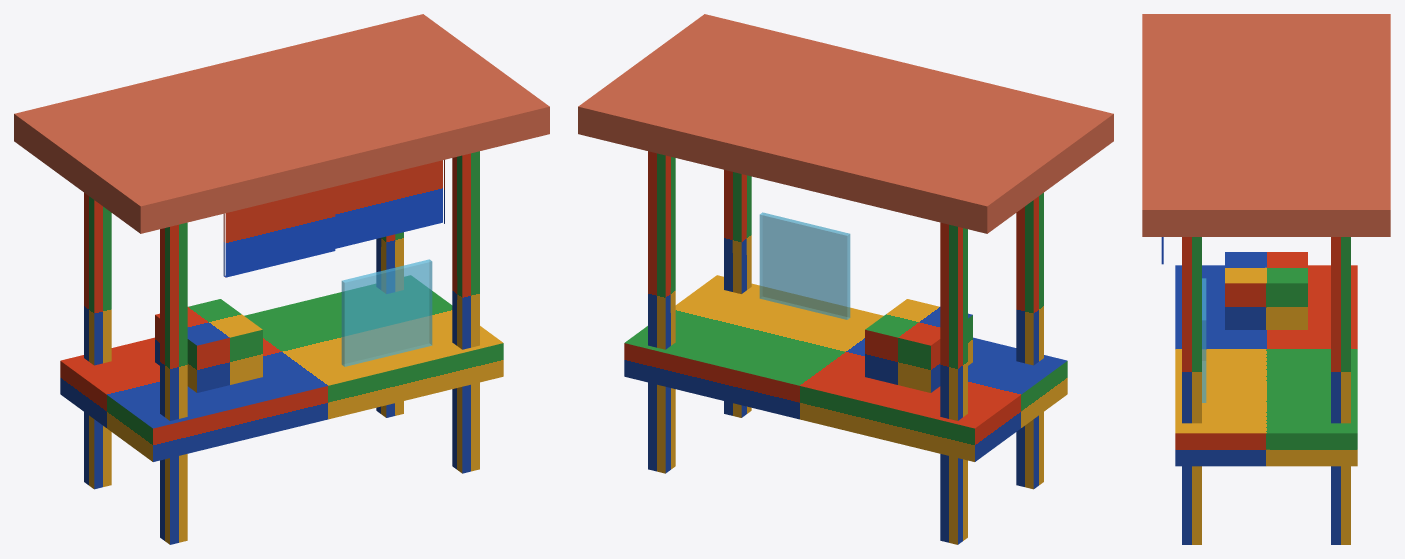
File: market_stall.glb
3 renders of one model, left to right at view 1: azimuth 30°, elevation 25°; view 2: azimuth 150°, elevation 25°; view 3: azimuth 270°, elevation 25°, orthographic.
Visible parts, largest first — view 1: awning, counter, post (×4), cutout-banner, glass-display, crate; view 2: awning, counter, post (×4), glass-display, crate; view 3: awning, counter, post (×2), crate, glass-display.
Part boxes in pixels (x1,y1,x2,y2): awning: (14,14,549,233); counter: (60,275,503,461); post (×4): (84,151,479,544); cutout-banner: (223,160,444,277); glass-display: (341,259,432,366); crate: (155,299,262,392); awning: (578,14,1113,233); counter: (624,275,1067,461); post (×4): (648,151,1043,544); glass-display: (759,212,850,319); crate: (865,299,972,392); awning: (1142,14,1390,236); counter: (1175,265,1357,466); post (×2): (1182,237,1350,544); crate: (1225,252,1307,329); glass-display: (1202,278,1206,402).
Bounding box in the file's own units: 2.8 × 2.39 × 1.5.
4 materials, 2 textured.
